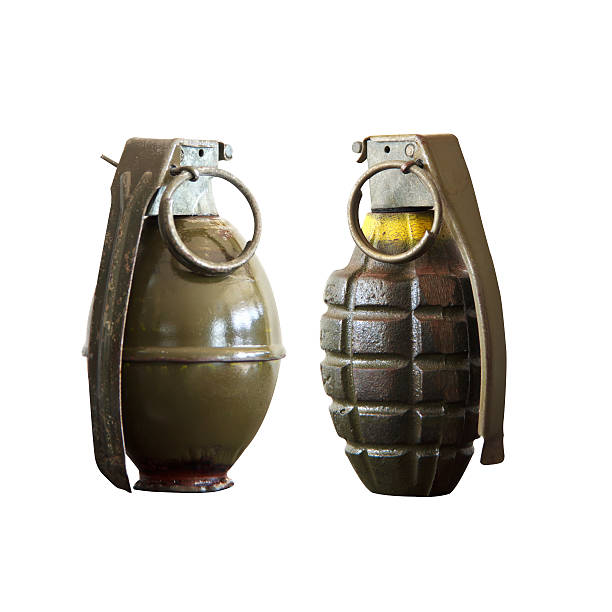e1: (84, 138, 286, 493), (319, 133, 507, 497)
